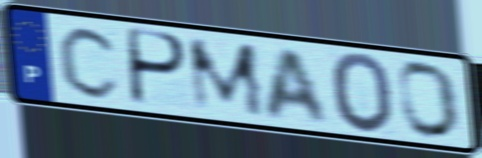A: (262, 46, 332, 127)
C: (56, 23, 123, 102)
M: (184, 37, 269, 120)
O: (328, 50, 397, 137), (396, 59, 463, 142)
P: (127, 25, 191, 110)
